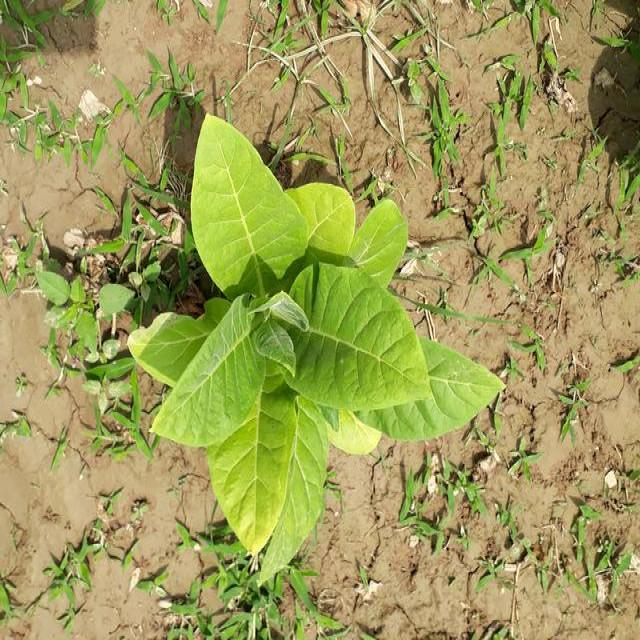crop: (129, 105, 509, 582)
